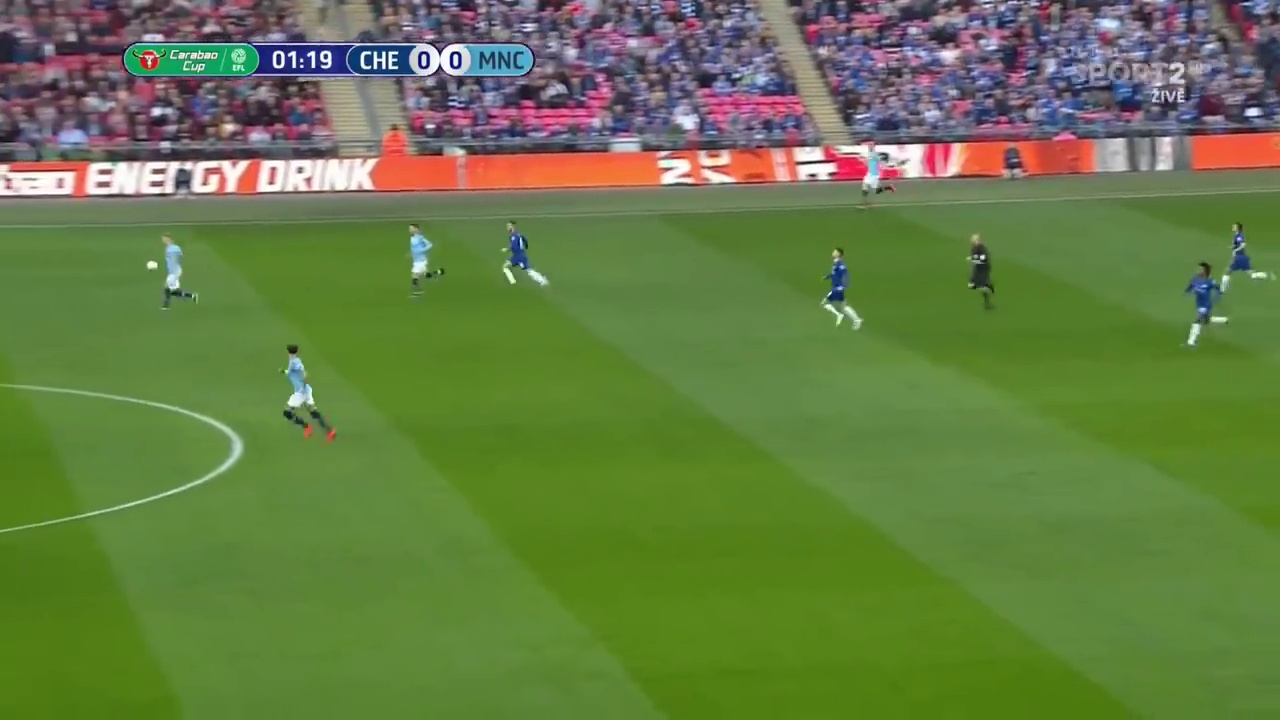ball: (144, 256, 158, 272)
blurry: (403, 223, 447, 303), (856, 136, 899, 211)
player: (275, 342, 340, 441), (815, 241, 870, 330), (1180, 257, 1230, 352), (1223, 218, 1274, 300), (498, 218, 549, 287), (162, 228, 204, 311), (960, 232, 1001, 309)
